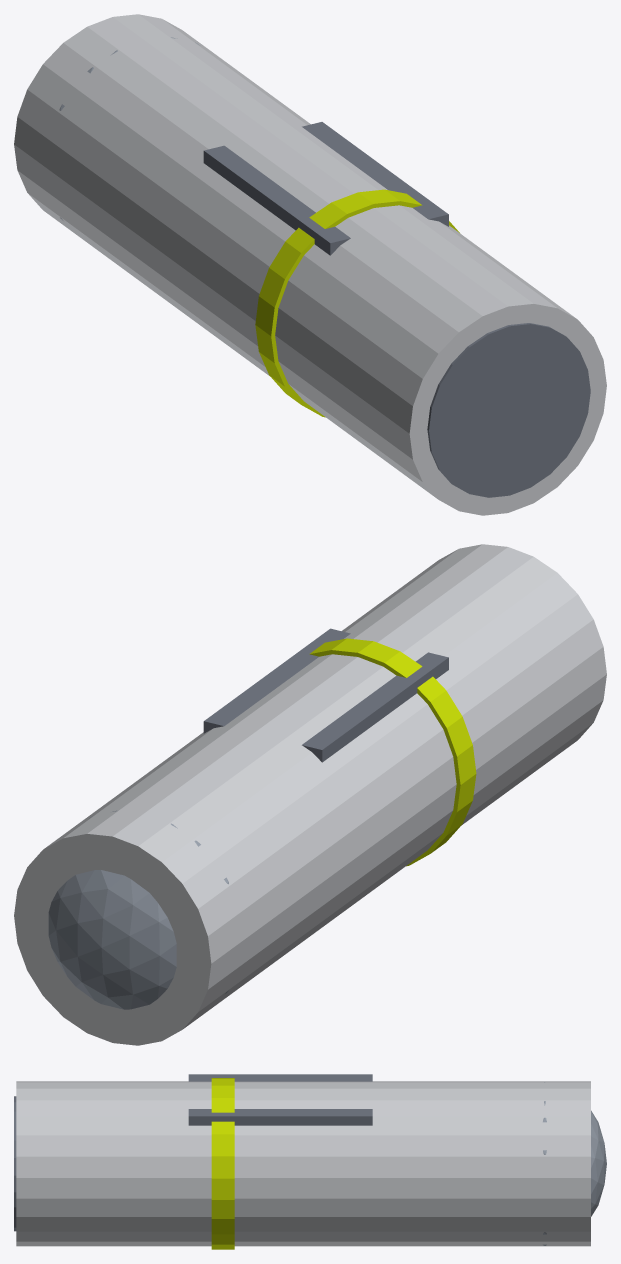
Rendered from tanque.glb.
3 renders of one model, top to bottom at view 1: azimuth 30°, elevation 25°; view 2: azimuth 150°, elevation 25°; view 3: azimuth 270°, elevation 25°, orthographic. The views are drawn at different scales.
Parts seen in each view (by area): view 1: tanque_cuerpo, tanque_cola, tanque_panel, tanque_banda_lima; view 2: tanque_cuerpo, tanque_nariz, tanque_panel, tanque_banda_lima; view 3: tanque_cuerpo, tanque_panel, tanque_banda_lima, tanque_nariz, tanque_cola.
Boxes of the visible parts, box(x1,y1,x2,y2) form: tanque_cuerpo: box(14, 14, 606, 515); tanque_cola: box(427, 323, 590, 497); tanque_panel: box(203, 122, 448, 255); tanque_banda_lima: box(255, 189, 459, 417); tanque_cuerpo: box(14, 544, 606, 1045); tanque_nariz: box(48, 810, 228, 1009); tanque_panel: box(203, 628, 448, 762); tanque_banda_lima: box(309, 638, 476, 866); tanque_cuerpo: box(16, 1081, 590, 1246); tanque_panel: box(188, 1074, 372, 1125); tanque_banda_lima: box(211, 1078, 234, 1249); tanque_nariz: box(543, 1082, 606, 1245); tanque_cola: box(14, 1096, 16, 1231).
Size of the model in its own units: 0.7488 by 0.7488 by 2.58.
